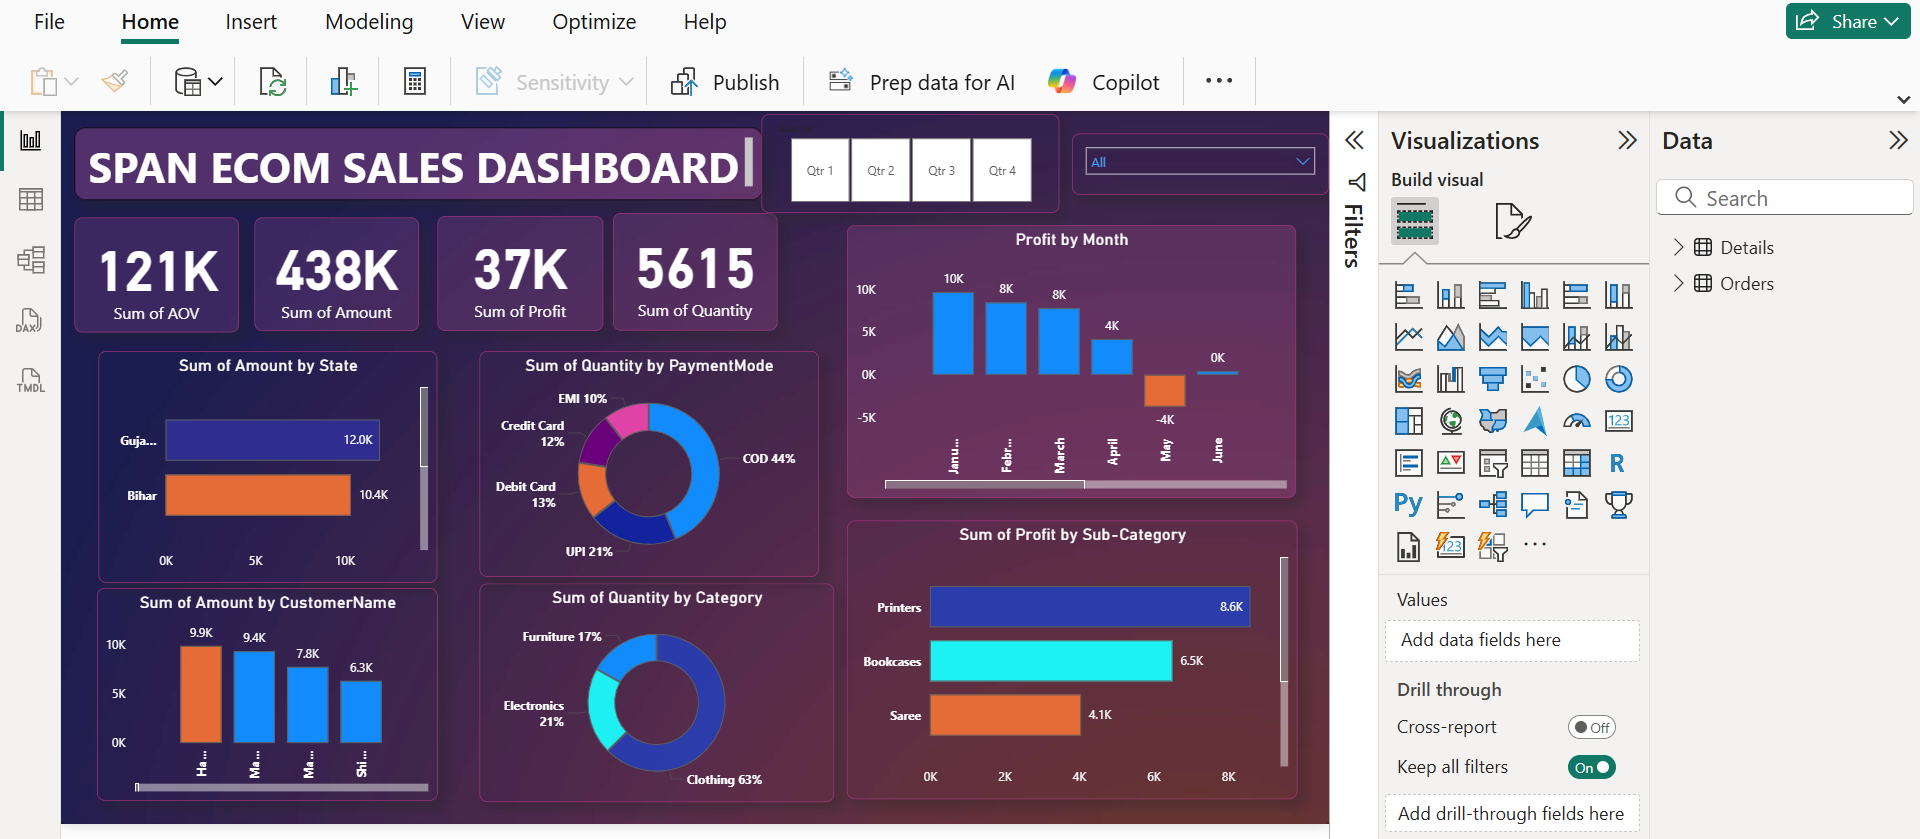

The dashboard page shown, as its layout file describes it:
{"tool":"powerbi","page":{"name":"Page 1","canvas":[1280,720],"ordinal":0},"visuals":[{"type":"textbox","box":[12.9,17.2,694.7,73.1],"z":0},{"type":"columnChart","title":" Profit by Month","fields":{"Y":["Details.Profit"],"Category":["Orders.Order Date.Variation.Date Hierarchy.Month"]},"box":[793.7,114.5,453.3,275.2],"z":1000},{"type":"barChart","fields":{"Category":["Details.Sub-Category"],"Y":["Details.Profit"]},"box":[793.7,413.6,454.9,281.5],"z":2000},{"type":"donutChart","fields":{"Category":["Details.Category"],"Y":["Details.Quantity"]},"box":[422.6,477,358.1,220.6],"z":2001},{"type":"donutChart","fields":{"Category":["Details.PaymentMode"],"Y":["Details.Quantity"]},"box":[422.6,242.1,342.3,227.8],"z":2002},{"type":"card","fields":{"Values":["Details.Amount"]},"box":[194.8,107.4,166.2,114.6],"z":2003},{"type":"card","fields":{"Values":["Details.Profit"]},"box":[379.6,106,167.6,116],"z":2004},{"type":"card","fields":{"Values":["Details.Quantity"]},"box":[557.2,103.1,166.2,118.9],"z":2005},{"type":"card","fields":{"Values":["Details.AOV"]},"box":[12.9,107.4,166.2,116],"z":2006},{"type":"barChart","fields":{"Category":["Orders.State"],"Y":["Details.Amount"]},"box":[37.8,241.9,342,234.3],"z":2007},{"type":"columnChart","fields":{"Category":["Orders.CustomerName"],"Y":["Details.Amount"]},"box":[35.8,481.3,343.8,214.9],"z":2008},{"type":"slicer","fields":{"Values":["Orders.Order Date.Variation.Date Hierarchy.Quarter"]},"box":[707.8,3.2,300.6,100.2],"z":2009},{"type":"slicer","fields":{"Values":["Orders.State"]},"box":[1021.2,22.3,259.3,62],"z":2010}]}

Visuals, with their boxes on the page's 1280x720 design canvas (x1, y1, x2, y2). These are canvas units, not pixel positions in the 1920x839 screenshot, which may show the page scaled, cropped or inside an application window:
textbox: {"x1": 13, "y1": 17, "x2": 708, "y2": 90}
" Profit by Month" columnChart: {"x1": 794, "y1": 114, "x2": 1247, "y2": 390}
barChart - Details.Sub-Category x Details.Profit: {"x1": 794, "y1": 414, "x2": 1249, "y2": 695}
donutChart - Details.Category x Details.Quantity: {"x1": 423, "y1": 477, "x2": 781, "y2": 698}
donutChart - Details.PaymentMode x Details.Quantity: {"x1": 423, "y1": 242, "x2": 765, "y2": 470}
card - Details.Amount: {"x1": 195, "y1": 107, "x2": 361, "y2": 222}
card - Details.Profit: {"x1": 380, "y1": 106, "x2": 547, "y2": 222}
card - Details.Quantity: {"x1": 557, "y1": 103, "x2": 723, "y2": 222}
card - Details.AOV: {"x1": 13, "y1": 107, "x2": 179, "y2": 223}
barChart - Orders.State x Details.Amount: {"x1": 38, "y1": 242, "x2": 380, "y2": 476}
columnChart - Orders.CustomerName x Details.Amount: {"x1": 36, "y1": 481, "x2": 380, "y2": 696}
slicer - Orders.Order Date.Variation.Date Hierarchy.Quarter: {"x1": 708, "y1": 3, "x2": 1008, "y2": 103}
slicer - Orders.State: {"x1": 1021, "y1": 22, "x2": 1280, "y2": 84}
